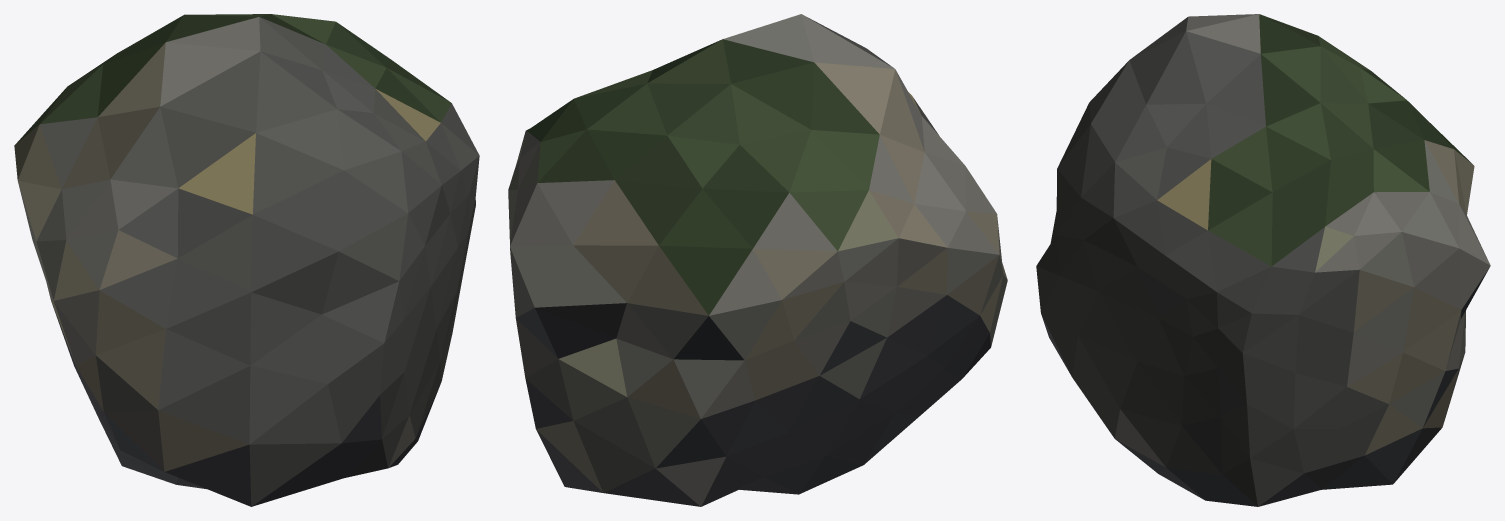
Rendered from rock-small.glb.
The picture shows the model from 3 angles, left to right: view 1: azimuth 30°, elevation 25°; view 2: azimuth 150°, elevation 25°; view 3: azimuth 270°, elevation 25°; orthographic projection. The views are drawn at different scales.
Visible parts, largest first — view 1: rock-small; view 2: rock-small; view 3: rock-small.
Part boxes in pixels (bbox=[...]): rock-small: bbox=[14, 14, 479, 506]; rock-small: bbox=[508, 14, 1007, 506]; rock-small: bbox=[1036, 14, 1490, 506].
Size of the model in its own units: 0.4508 by 0.4264 by 0.432.
